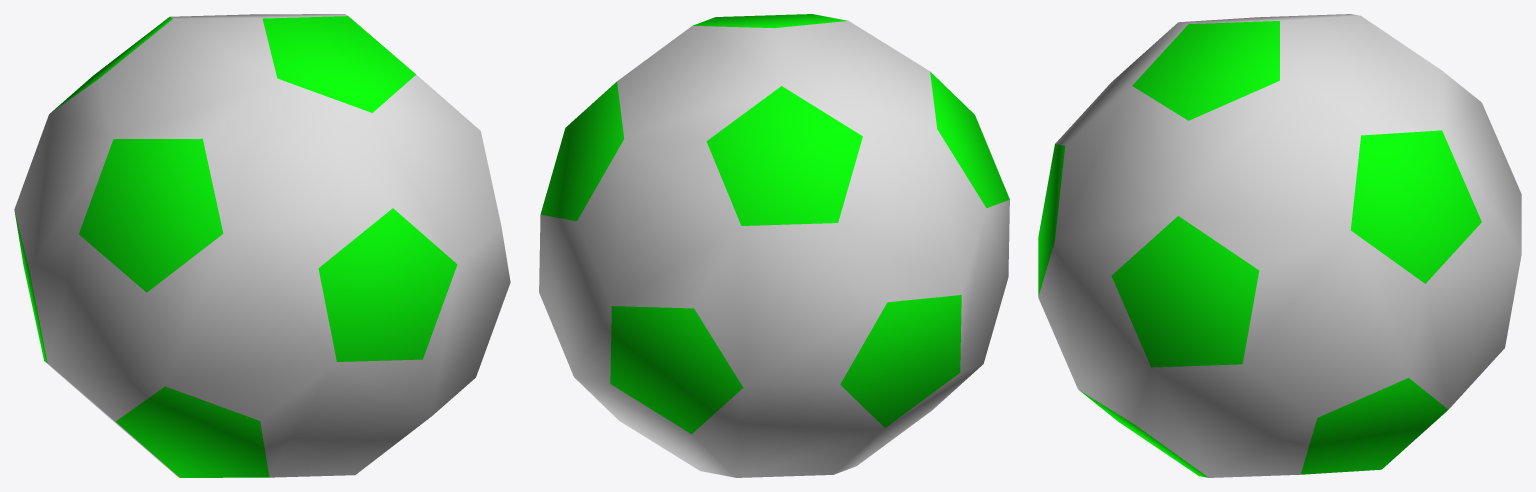
Rendered from greenBall.glb.
The picture shows the model from 3 angles, left to right: view 1: azimuth 30°, elevation 25°; view 2: azimuth 150°, elevation 25°; view 3: azimuth 270°, elevation 25°; orthographic projection. The views are drawn at different scales.
Visible parts, largest first — view 1: greenBall; view 2: greenBall; view 3: greenBall.
Boxes of the visible parts, bbox=[...] form: greenBall: bbox=[14, 14, 510, 477]; greenBall: bbox=[539, 14, 1009, 477]; greenBall: bbox=[1038, 14, 1521, 477].
Size of what is drawn, in the model's own units: 1.97 by 2 by 1.95.
